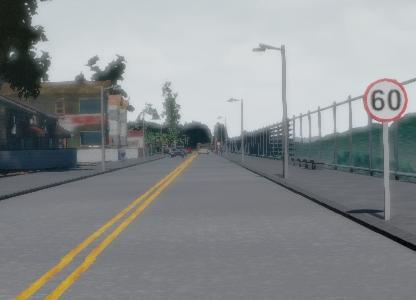Speed_60: (360, 77, 409, 124)
